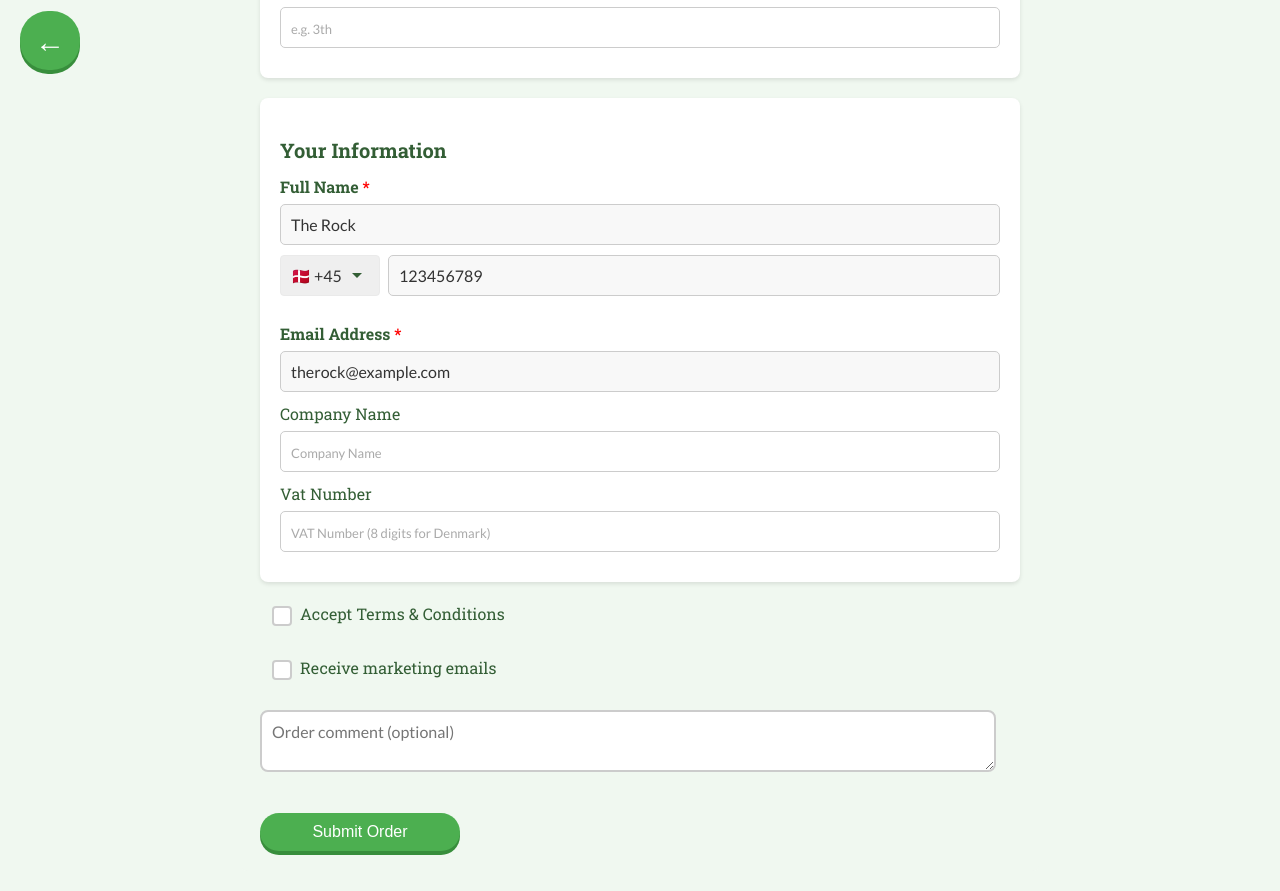
Test: Checkout component › submits the order when 'Submit Order' button is clicked
(page scrolled)
Check: the button "Submit Order" is shown, box [260,813,460,851]
Click the checkbox "Accept Terms & Conditions".
click(388, 614)  # box [272,602,505,626]
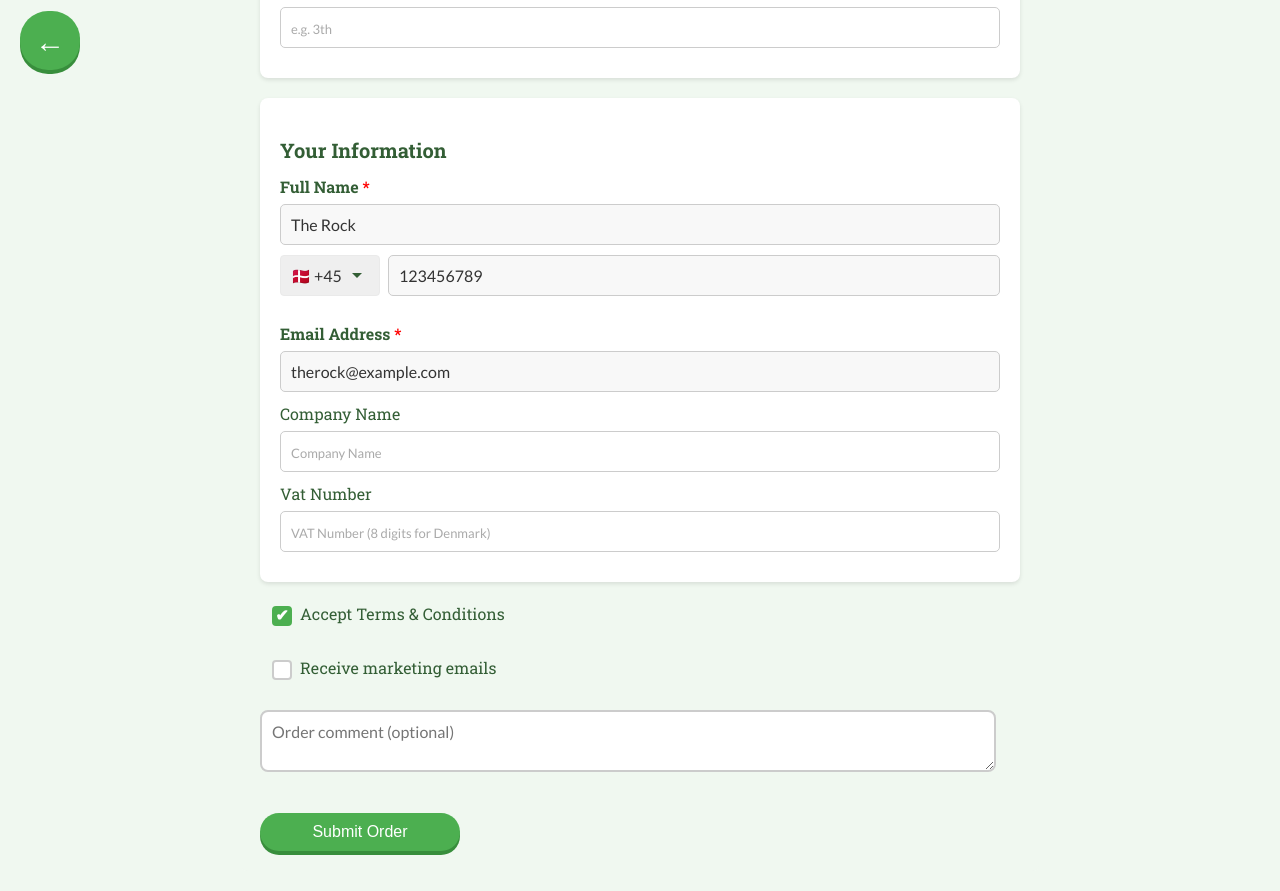
Click the button "Submit Order".
click(360, 832)  # box [260,813,460,851]
(page scrolled)
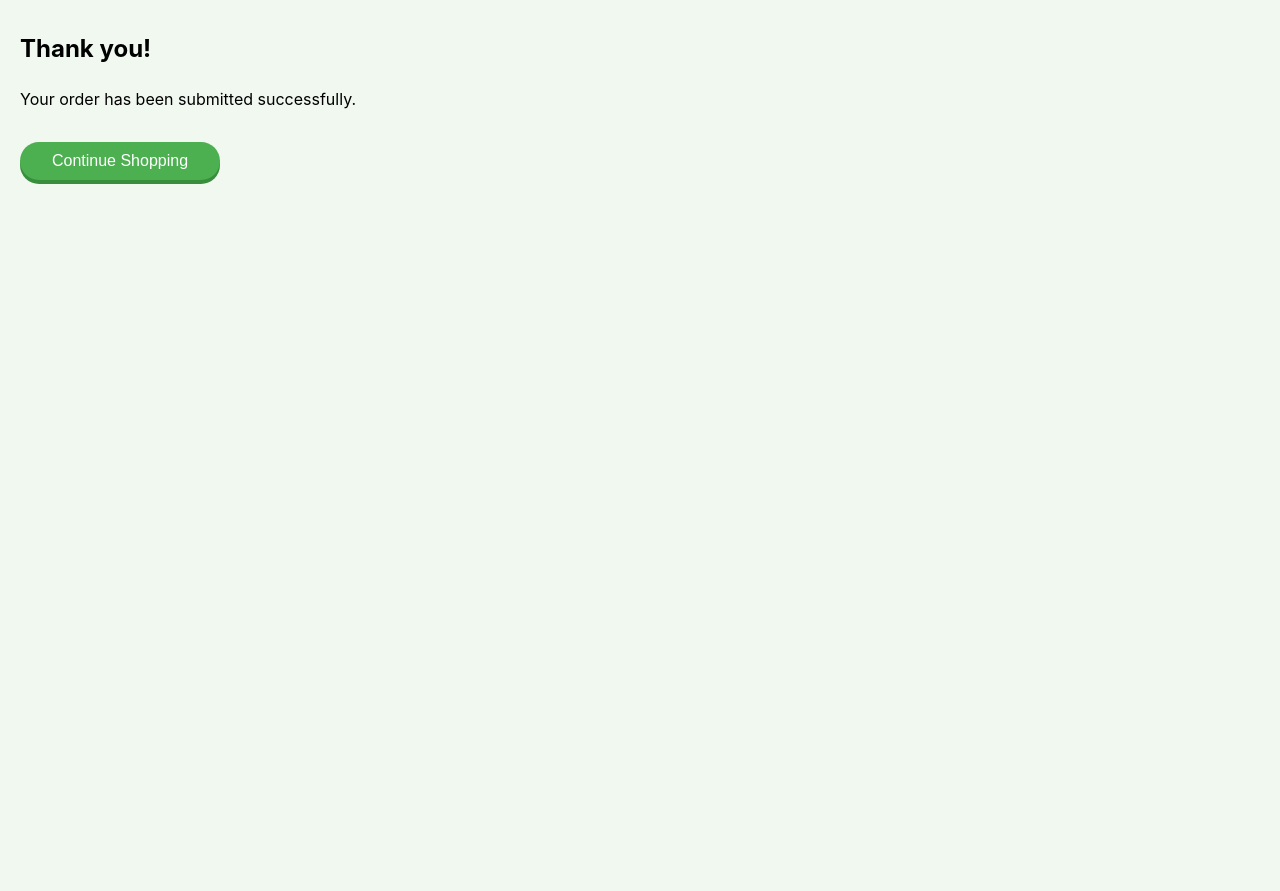
Check: the text "Your order has been submitted successfully." is shown, box [20,89,356,109]
